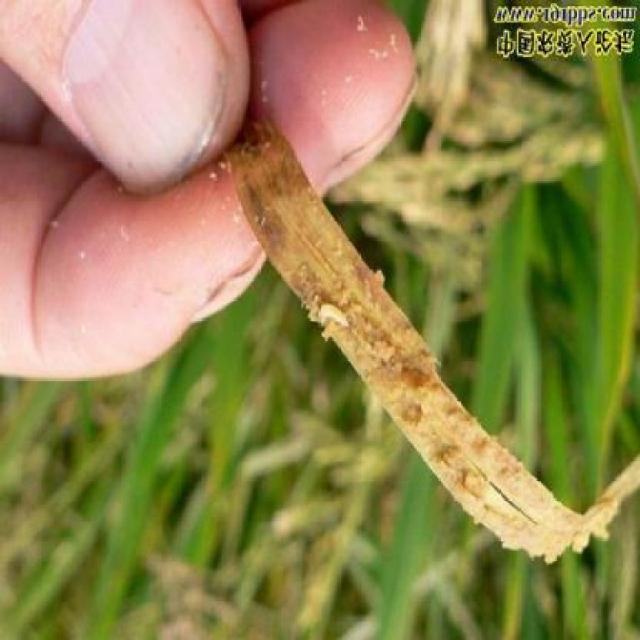whorl-maggot: (312, 290, 357, 338)
